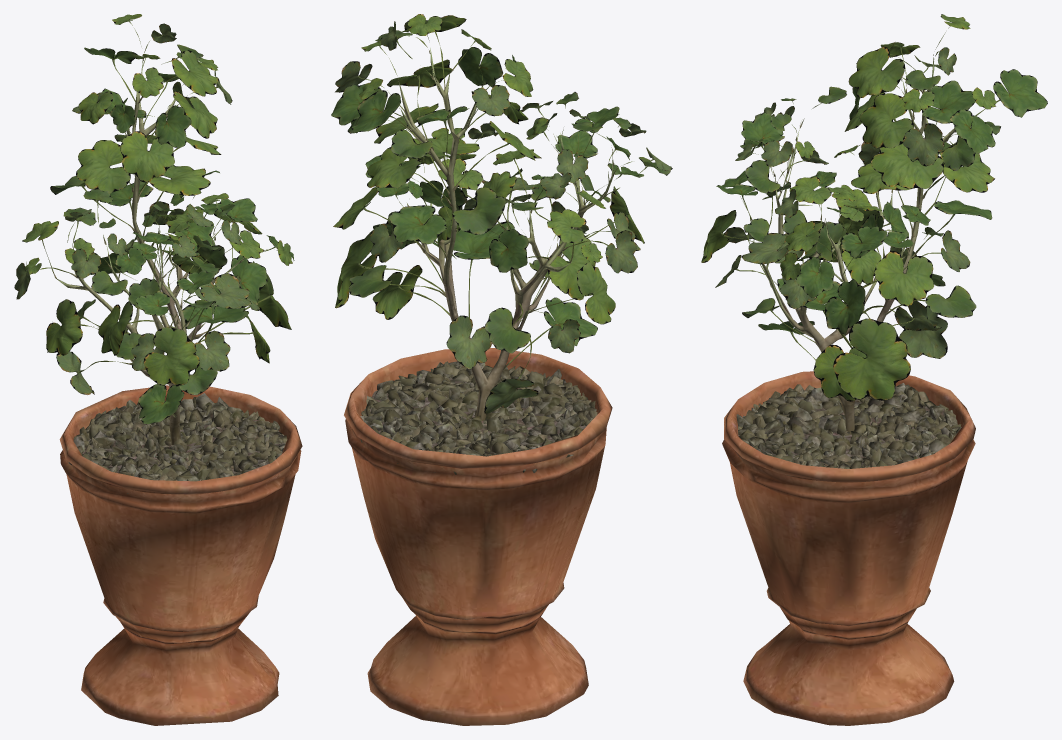
File: plant-tall.glb
The picture shows the model from 3 angles, left to right: view 1: azimuth 30°, elevation 25°; view 2: azimuth 150°, elevation 25°; view 3: azimuth 270°, elevation 25°; orthographic projection. The views are drawn at different scales.
Parts seen in each view (by area): view 1: potted_plant_01_pot, potted_plant_01_leaves, potted_plant_01_pebbles, potted_plant_01_stem; view 2: potted_plant_01_pot, potted_plant_01_leaves, potted_plant_01_pebbles, potted_plant_01_stem; view 3: potted_plant_01_pot, potted_plant_01_leaves, potted_plant_01_pebbles, potted_plant_01_stem.
Boxes of the visible parts, bbox=[...] form: potted_plant_01_pot: bbox=[59, 385, 302, 725]; potted_plant_01_leaves: bbox=[14, 14, 294, 424]; potted_plant_01_pebbles: bbox=[68, 393, 287, 493]; potted_plant_01_stem: bbox=[55, 58, 244, 444]; potted_plant_01_pot: bbox=[344, 348, 612, 725]; potted_plant_01_leaves: bbox=[331, 14, 672, 414]; potted_plant_01_pebbles: bbox=[360, 361, 597, 474]; potted_plant_01_stem: bbox=[398, 48, 613, 420]; potted_plant_01_pot: bbox=[722, 371, 975, 725]; potted_plant_01_leaves: bbox=[701, 14, 1047, 401]; potted_plant_01_pebbles: bbox=[736, 383, 967, 468]; potted_plant_01_stem: bbox=[753, 57, 955, 434].
Size of the model in its own units: 0.5871 by 1.33 by 0.6336.
Materials: 2 (2 with a texture image).
